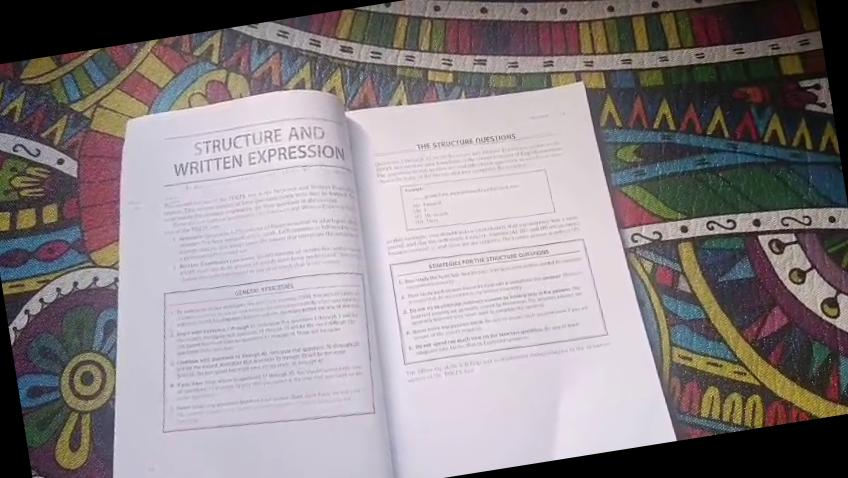Kertas: (133, 101, 478, 478), (316, 88, 643, 478)
